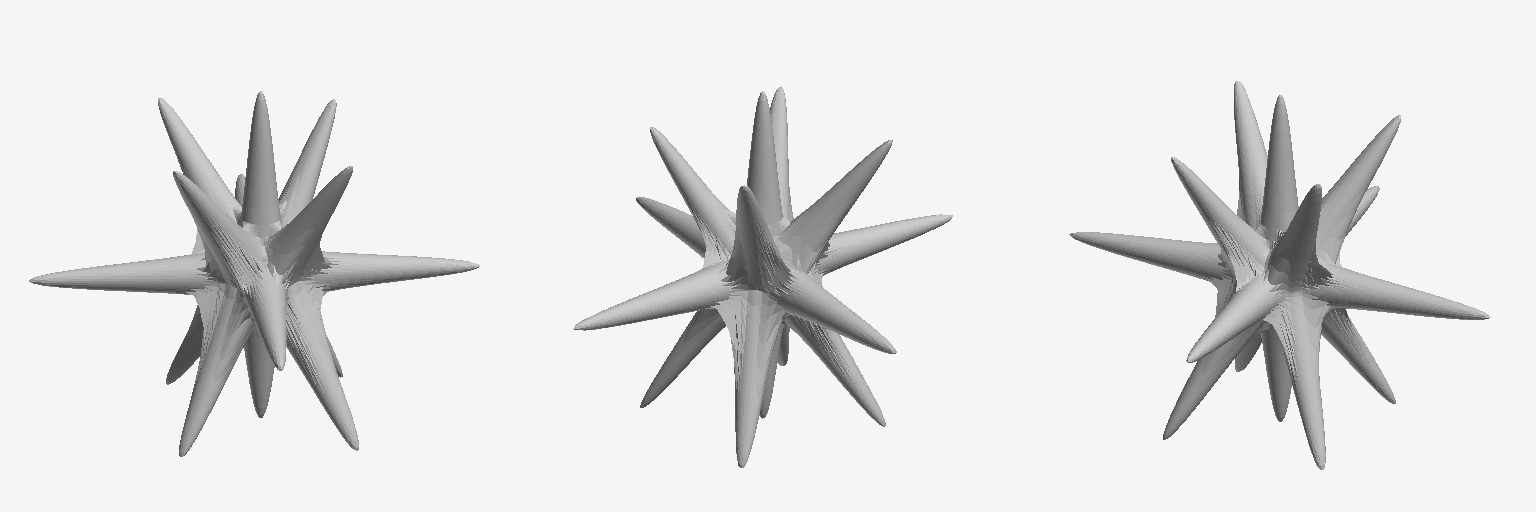
The model's file is bak01.obj.
3 views of the same model, side by side, from view 1: azimuth 30°, elevation 25°; view 2: azimuth 150°, elevation 25°; view 3: azimuth 270°, elevation 25° (orthographic).
Parts seen in each view (by area): view 1: pSphere1; view 2: pSphere1; view 3: pSphere1.
Boxes of the visible parts, <box> form: pSphere1: <box>29,91,479,456</box>; pSphere1: <box>573,87,952,467</box>; pSphere1: <box>1069,81,1490,469</box>.
Bounding box in the file's own units: 9.39 × 8.26 × 9.62.